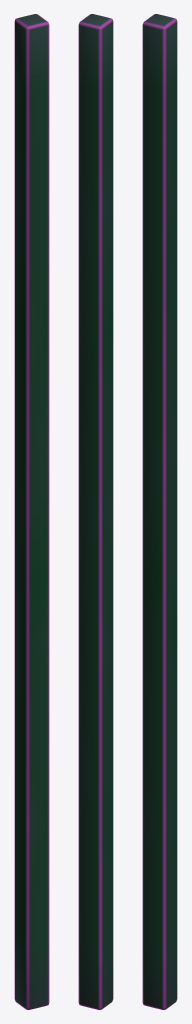
The model's file is square_pillar_01.fbx.
3 renders of one model, left to right at view 1: azimuth 30°, elevation 25°; view 2: azimuth 150°, elevation 25°; view 3: azimuth 330°, elevation 25°, orthographic.
Parts seen in each view (by area): view 1: square_pillar_01; view 2: square_pillar_01; view 3: square_pillar_01.
Part boxes in pixels (box(x1,y1,x2,y2)): square_pillar_01: box(14, 14, 49, 1009); square_pillar_01: box(78, 14, 113, 1009); square_pillar_01: box(142, 14, 177, 1009).
Bounding box in the file's own units: 0.04 × 1.6 × 0.04.
